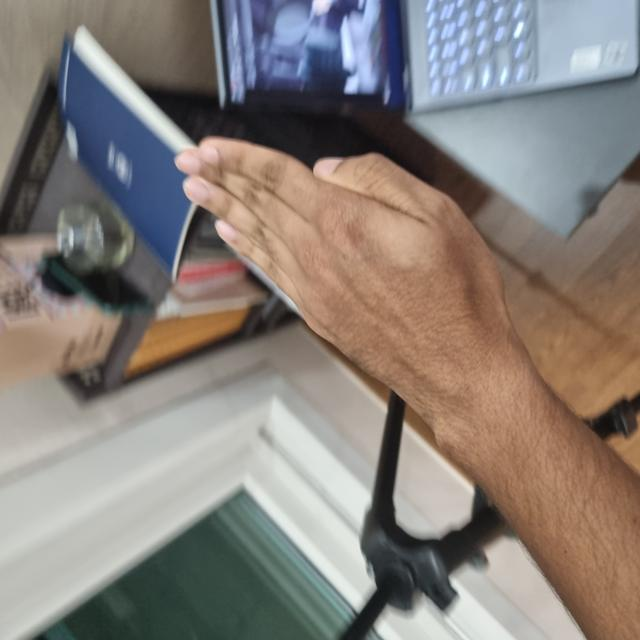Paper: (232, 183, 500, 508)
